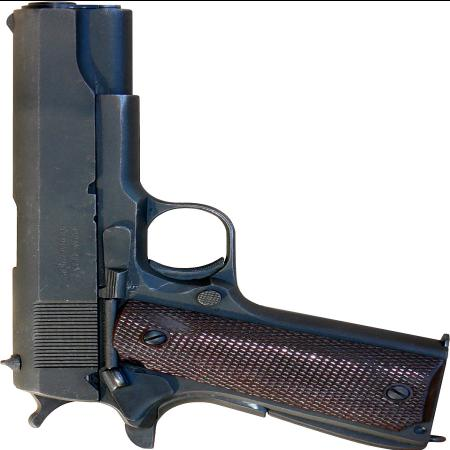Pistol: (5, 7, 444, 439)
